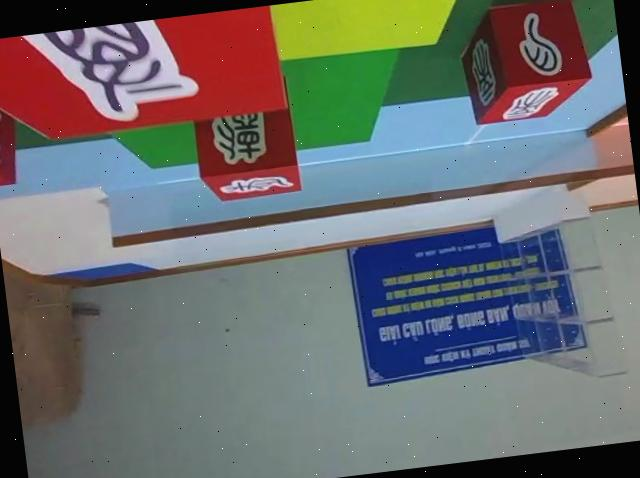R2 Fake: (0, 4, 289, 153), (450, 0, 597, 128), (184, 68, 304, 206), (0, 76, 23, 189)
